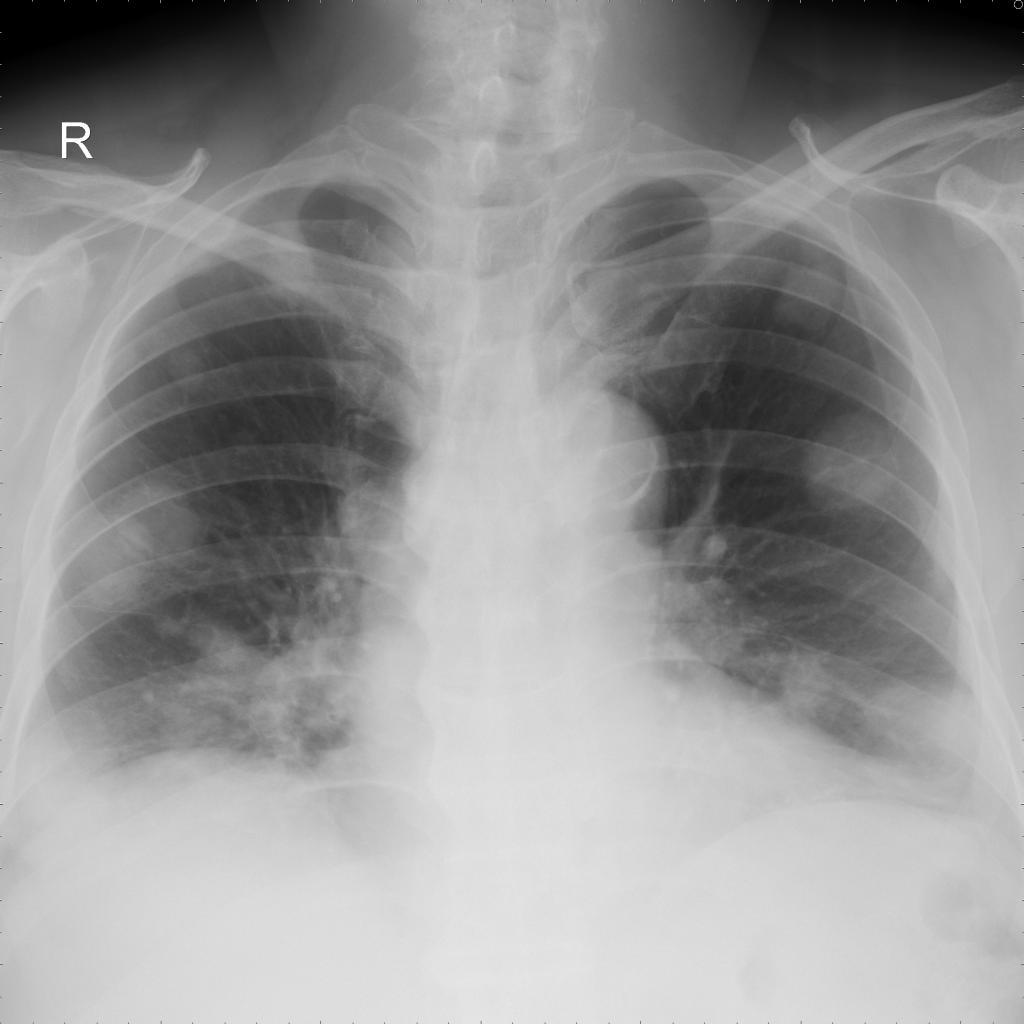Nodule: (793, 413, 907, 514), (247, 649, 350, 759), (768, 242, 844, 332), (262, 214, 324, 307), (88, 517, 156, 601), (869, 685, 939, 757), (777, 646, 841, 721), (167, 347, 202, 394), (54, 657, 82, 689)
